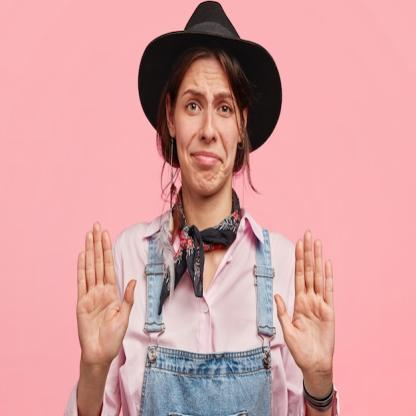stop: (270, 225, 338, 379), (74, 218, 139, 361)
